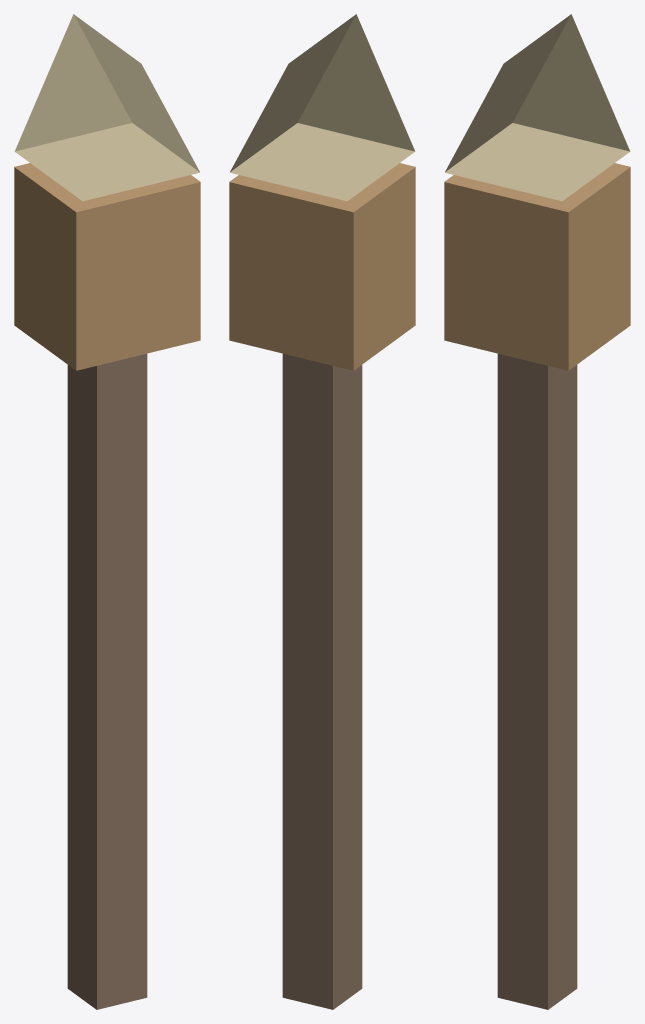
File: tocha_coluna.glb
3 renders of one model, left to right at view 1: azimuth 30°, elevation 25°; view 2: azimuth 150°, elevation 25°; view 3: azimuth 330°, elevation 25°, orthographic.
Parts seen in each view (by area): view 1: part_000, part_001, part_002; view 2: part_000, part_001, part_002; view 3: part_000, part_001, part_002.
Part boxes in pixels (left/top/right/bottom): part_000: left=67, top=353, right=147, bottom=1009; part_001: left=14, top=163, right=200, bottom=370; part_002: left=14, top=14, right=199, bottom=201; part_000: left=282, top=353, right=362, bottom=1009; part_001: left=229, top=163, right=415, bottom=370; part_002: left=230, top=14, right=415, bottom=201; part_000: left=497, top=353, right=577, bottom=1009; part_001: left=444, top=163, right=630, bottom=370; part_002: left=445, top=14, right=630, bottom=201.
Size of the model in its own units: 0.37 by 2.71 by 0.35.
